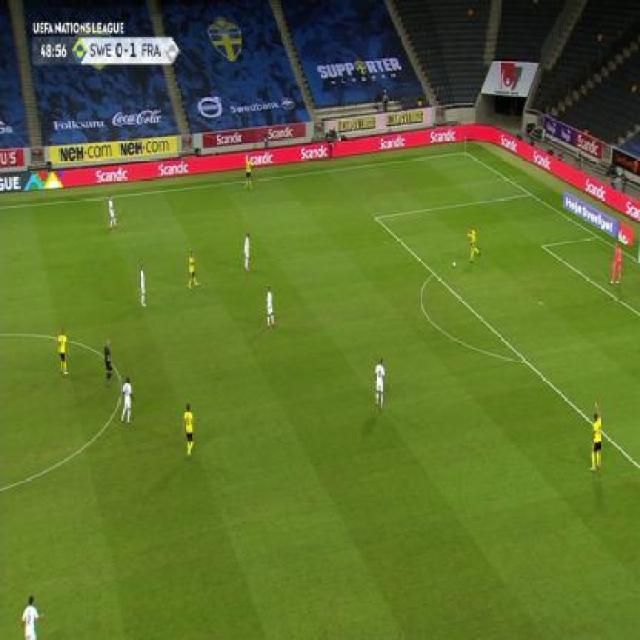ball: (452, 260, 457, 268)
player: (19, 594, 44, 639), (588, 410, 604, 473), (181, 402, 197, 459), (372, 355, 388, 412), (119, 376, 136, 424), (56, 327, 70, 375), (609, 242, 623, 285), (103, 337, 114, 388), (186, 248, 200, 288), (466, 226, 480, 263), (266, 284, 277, 329), (137, 262, 148, 307), (243, 153, 254, 190), (243, 231, 252, 273), (107, 195, 118, 229)
